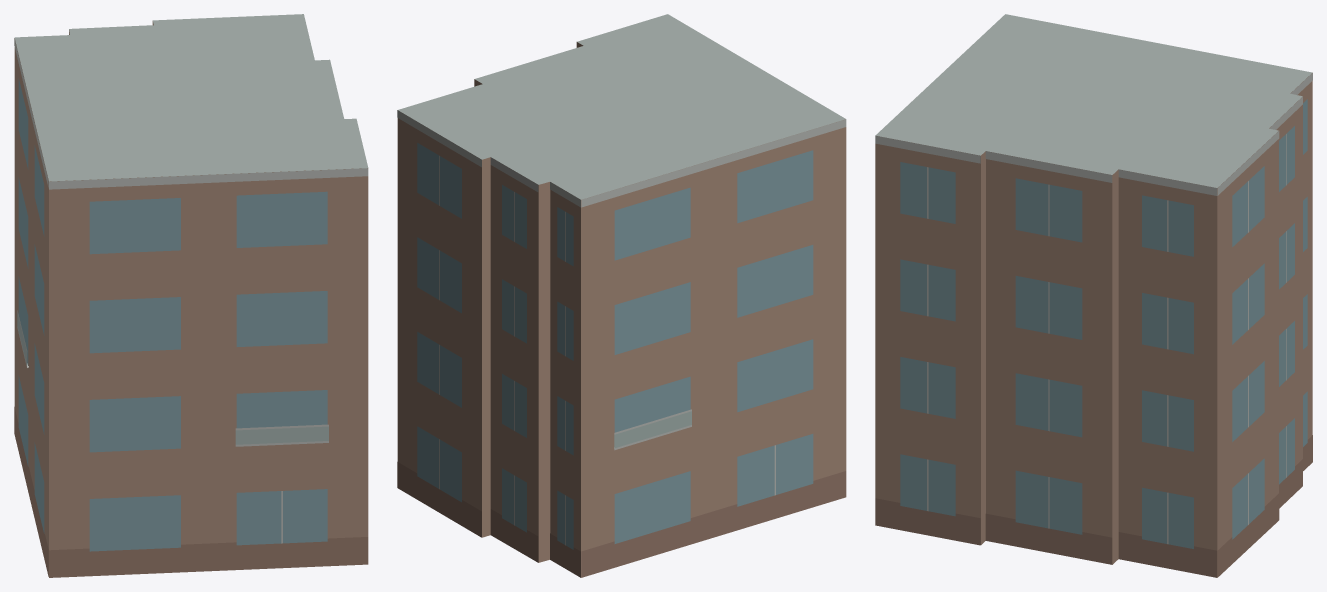
Rendered from survey-upis-32917131.glb.
3 views of the same model, side by side, from view 1: azimuth 30°, elevation 25°; view 2: azimuth 150°, elevation 25°; view 3: azimuth 270°, elevation 25° (orthographic). The views are drawn at different scales.
Visible parts, largest first — view 1: survey-upis-32917131.tmp; view 2: survey-upis-32917131.tmp; view 3: survey-upis-32917131.tmp.
Boxes of the visible parts, box(x1,y1,x2,y2) form: survey-upis-32917131.tmp: box(14, 14, 368, 577); survey-upis-32917131.tmp: box(397, 14, 846, 577); survey-upis-32917131.tmp: box(875, 14, 1312, 577).
Size of the model in its own units: 11.36 by 11.85 by 12.06.
